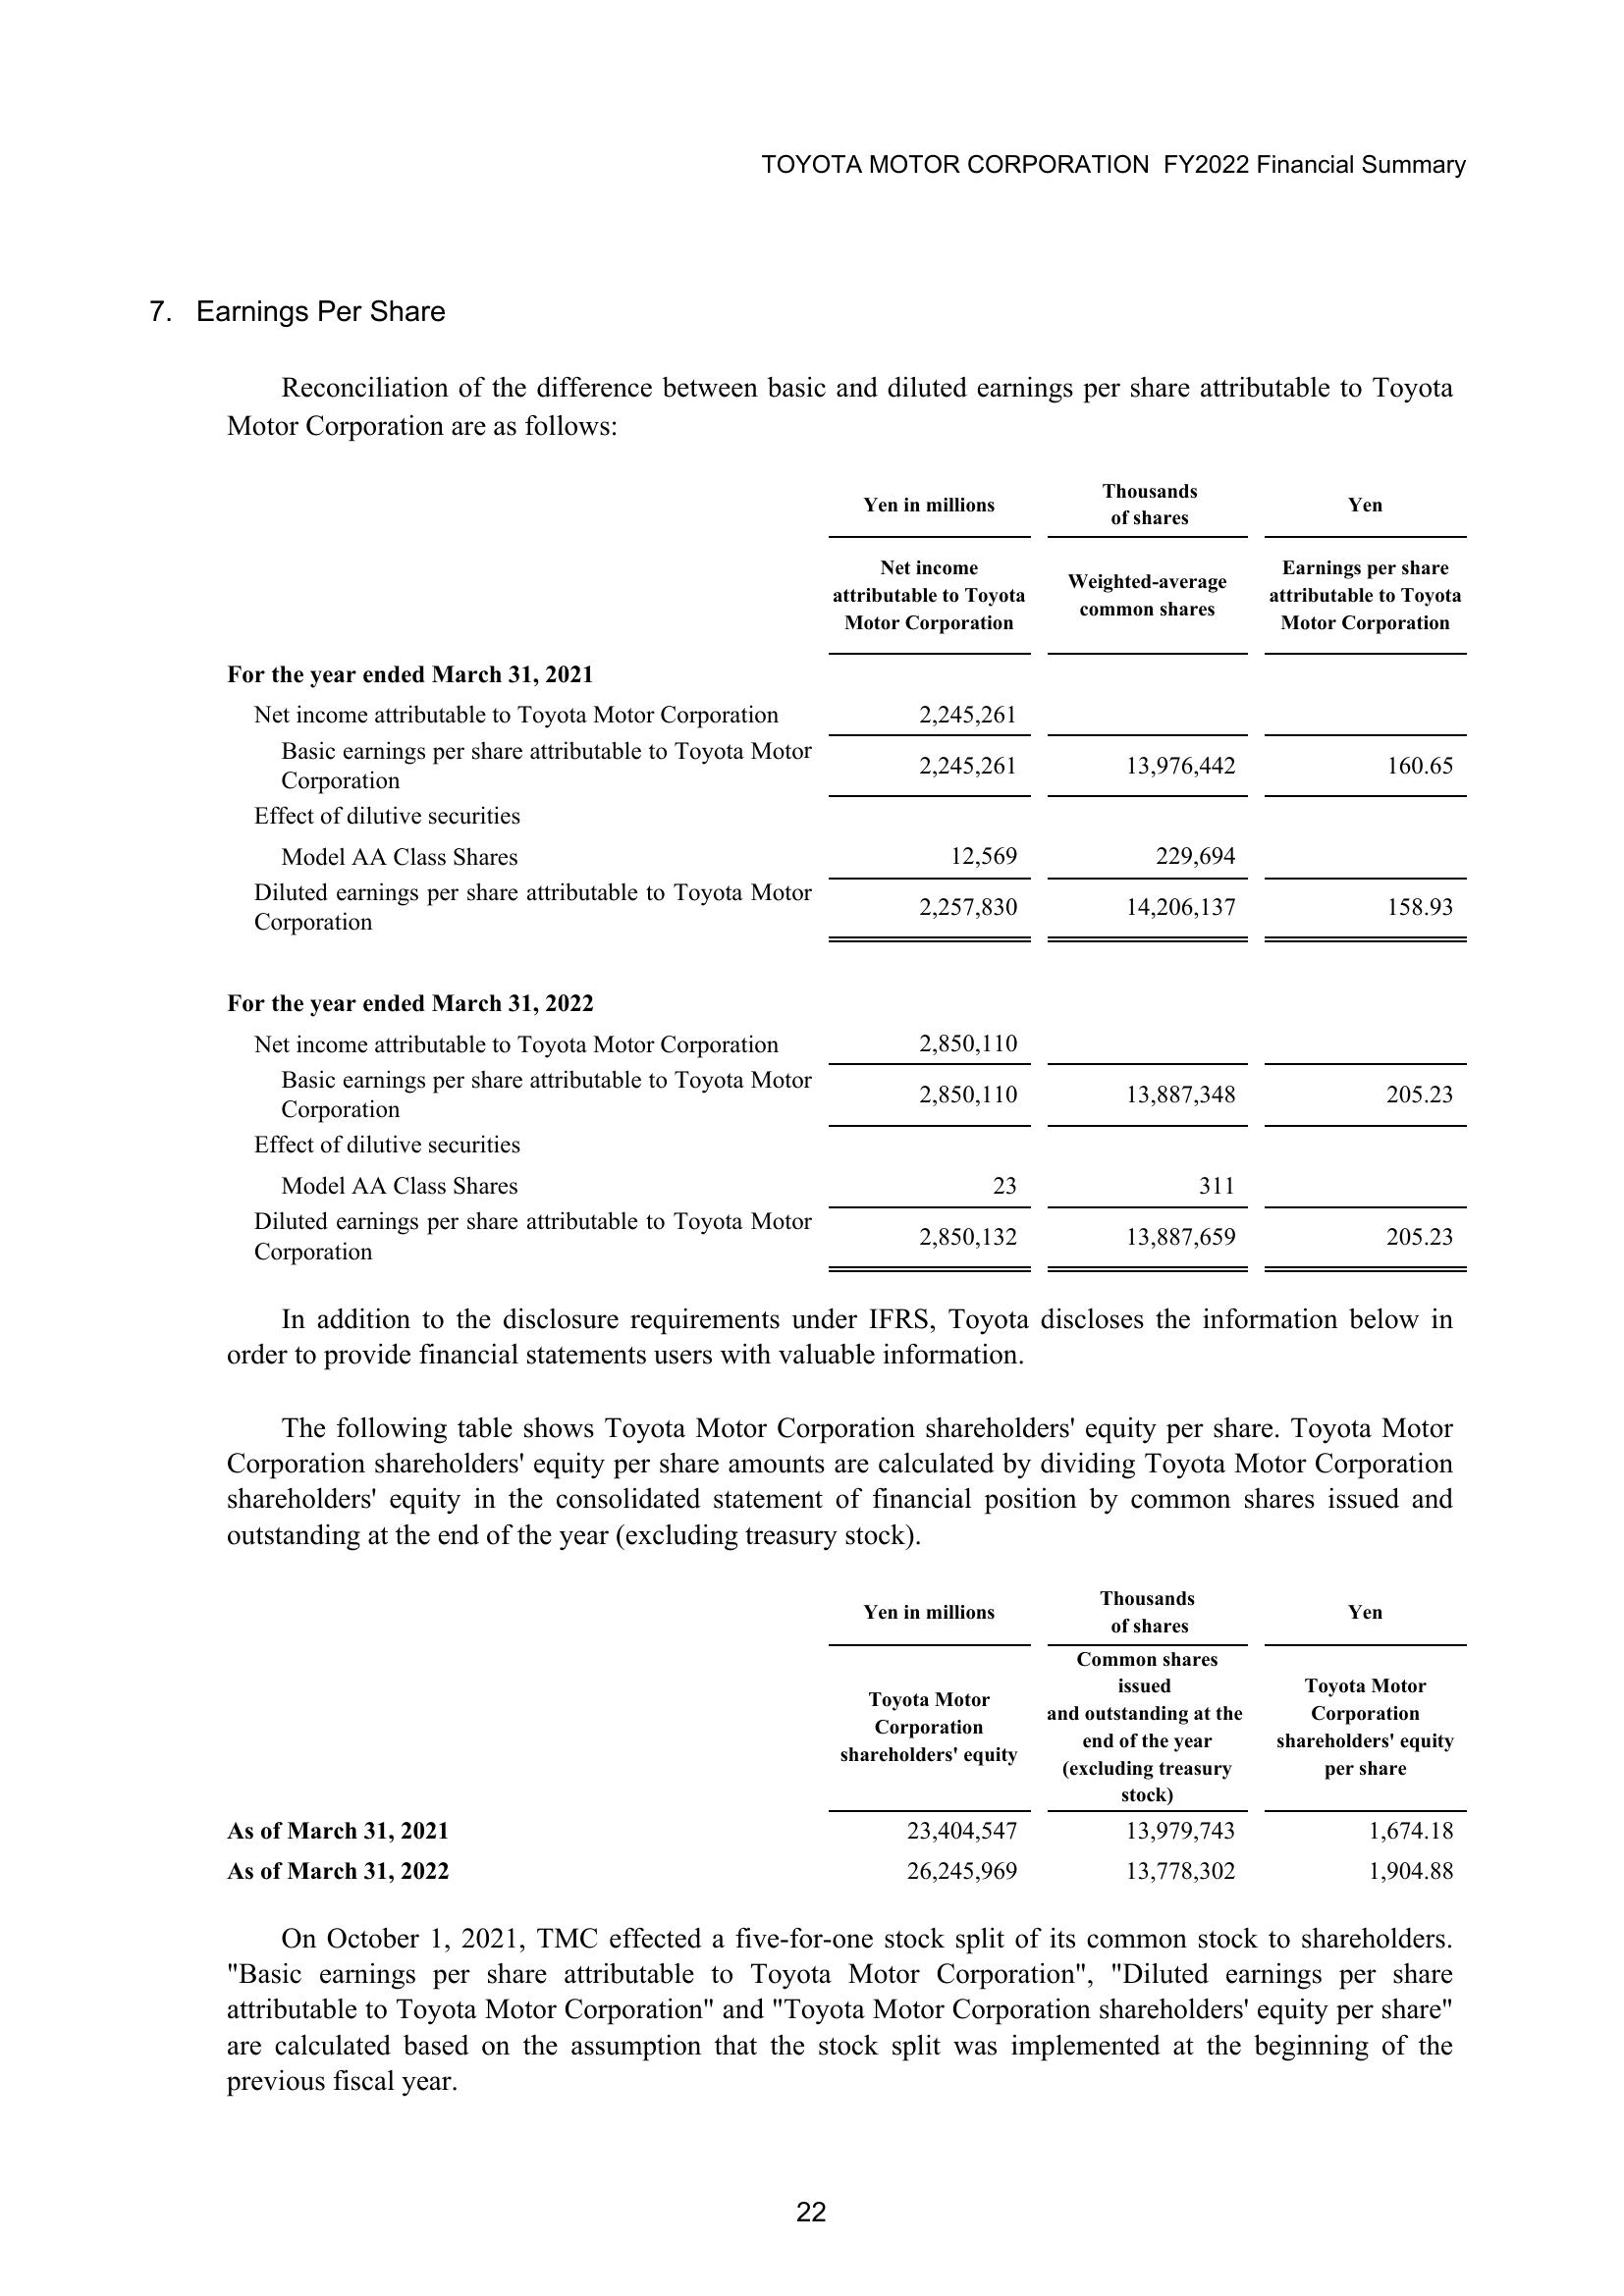Footer: (0, 2166, 1624, 2296)
Header: (0, 0, 1624, 202)
Table: (195, 471, 1519, 1272), (195, 1585, 1469, 1897)
